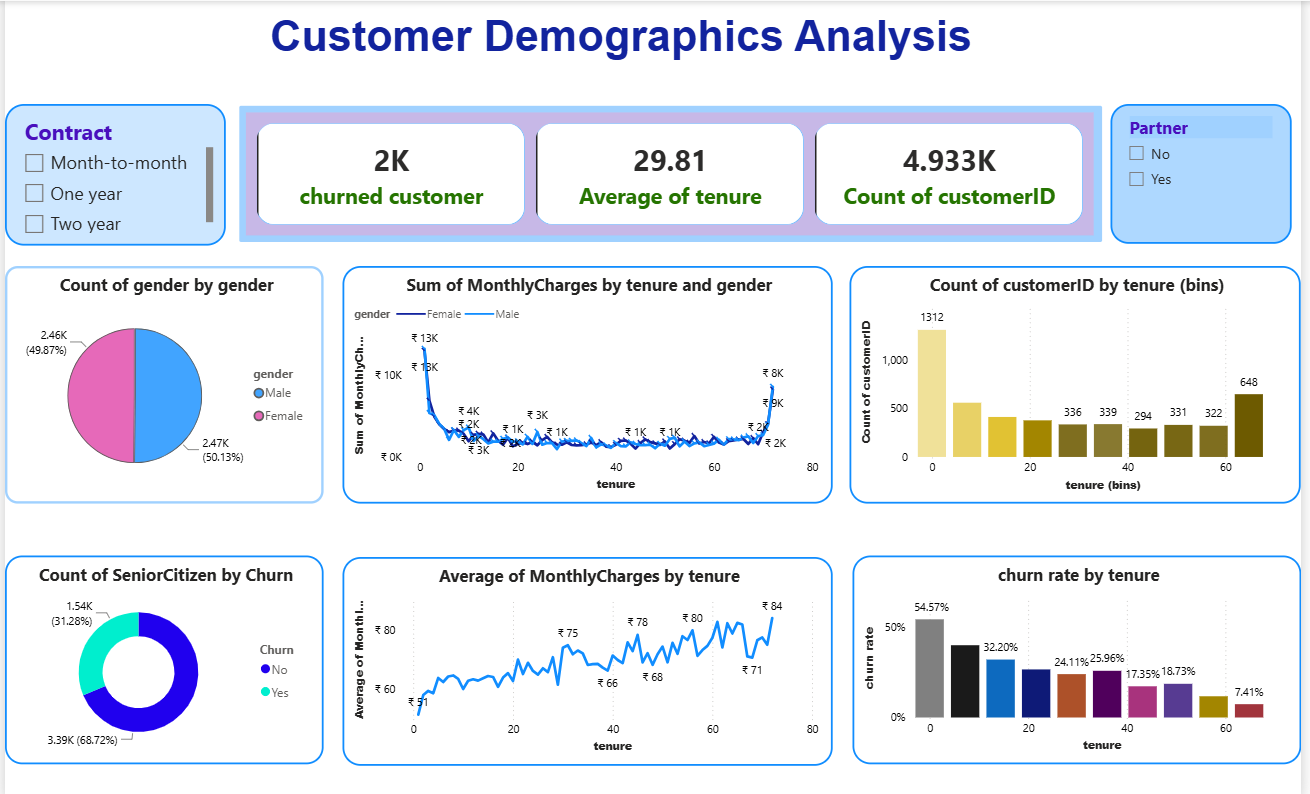

The dashboard page shown, as its layout file describes it:
{"tool":"powerbi","page":{"name":"Page 1","canvas":[1440,900],"ordinal":0},"visuals":[{"type":"pieChart","fields":{"Y":["CountNonNull(WA_Fn-UseC_-Telco-Customer-Churn.gender)"],"Category":["WA_Fn-UseC_-Telco-Customer-Churn.gender"]},"box":[0,307.1,354,264.2],"z":0},{"type":"donutChart","fields":{"Category":["WA_Fn-UseC_-Telco-Customer-Churn.Churn"],"Y":["CountNonNull(WA_Fn-UseC_-Telco-Customer-Churn.SeniorCitizen)"]},"box":[0,628.9,354,232],"z":1000},{"type":"lineChart","fields":{"Category":["WA_Fn-UseC_-Telco-Customer-Churn.tenure"],"Y":["Avg(WA_Fn-UseC_-Telco-Customer-Churn.MonthlyCharges)"]},"box":[375.5,630.3,544.5,232],"z":2000},{"type":"lineChart","fields":{"Category":["WA_Fn-UseC_-Telco-Customer-Churn.tenure"],"Y":["Sum(WA_Fn-UseC_-Telco-Customer-Churn.MonthlyCharges)"],"Series":["WA_Fn-UseC_-Telco-Customer-Churn.gender"]},"box":[375.5,307.1,544.5,264.2],"z":3000},{"type":"columnChart","fields":{"Y":["CountNonNull(WA_Fn-UseC_-Telco-Customer-Churn.customerID)"],"Category":["WA_Fn-UseC_-Telco-Customer-Churn.tenure (bins)"]},"box":[938.7,307.1,501.5,264.2],"z":4000},{"type":"columnChart","title":"churn rate by tenure","fields":{"Category":["WA_Fn-UseC_-Telco-Customer-Churn.tenure (bins) 2"],"Y":["WA_Fn-UseC_-Telco-Customer-Churn.churn rate"]},"box":[941.4,628.9,498.9,232],"z":5000},{"type":"slicer","fields":{"Values":["WA_Fn-UseC_-Telco-Customer-Churn.Contract"]},"box":[0,126.2,245,157.5],"z":6000},{"type":"textbox","box":[147.5,0,1072.5,111.2],"z":9000},{"type":"cardVisual","fields":{"Data":["WA_Fn-UseC_-Telco-Customer-Churn.churned customer","Avg(WA_Fn-UseC_-Telco-Customer-Churn.tenure)","CountNonNull(WA_Fn-UseC_-Telco-Customer-Churn.customerID)"]},"box":[257.5,126.2,962.5,155],"z":10000},{"type":"slicer","fields":{"Values":["WA_Fn-UseC_-Telco-Customer-Churn.Partner"]},"box":[1228.8,126.2,201.2,155],"z":11000}]}

Visuals, with their boxes on the page's 1440x900 design canvas (x1, y1, x2, y2). These are canvas units, not pixel positions in the 1310x794 screenshot, which may show the page scaled, cropped or inside an application window:
pieChart - CountNonNull(WA_Fn-UseC_-Telco-Customer-Churn.gender) x WA_Fn-UseC_-Telco-Customer-Churn.gender: bbox(0, 307, 354, 571)
donutChart - WA_Fn-UseC_-Telco-Customer-Churn.Churn x CountNonNull(WA_Fn-UseC_-Telco-Customer-Churn.SeniorCitizen): bbox(0, 629, 354, 861)
lineChart - WA_Fn-UseC_-Telco-Customer-Churn.tenure x Avg(WA_Fn-UseC_-Telco-Customer-Churn.MonthlyCharges): bbox(376, 630, 920, 862)
lineChart - WA_Fn-UseC_-Telco-Customer-Churn.tenure x Sum(WA_Fn-UseC_-Telco-Customer-Churn.MonthlyCharges): bbox(376, 307, 920, 571)
columnChart - CountNonNull(WA_Fn-UseC_-Telco-Customer-Churn.customerID) x WA_Fn-UseC_-Telco-Customer-Churn.tenure (bins): bbox(939, 307, 1440, 571)
"churn rate by tenure" columnChart: bbox(941, 629, 1440, 861)
slicer - WA_Fn-UseC_-Telco-Customer-Churn.Contract: bbox(0, 126, 245, 284)
textbox: bbox(148, 0, 1220, 111)
cardVisual - WA_Fn-UseC_-Telco-Customer-Churn.churned customer x Avg(WA_Fn-UseC_-Telco-Customer-Churn.tenure): bbox(258, 126, 1220, 281)
slicer - WA_Fn-UseC_-Telco-Customer-Churn.Partner: bbox(1229, 126, 1430, 281)
